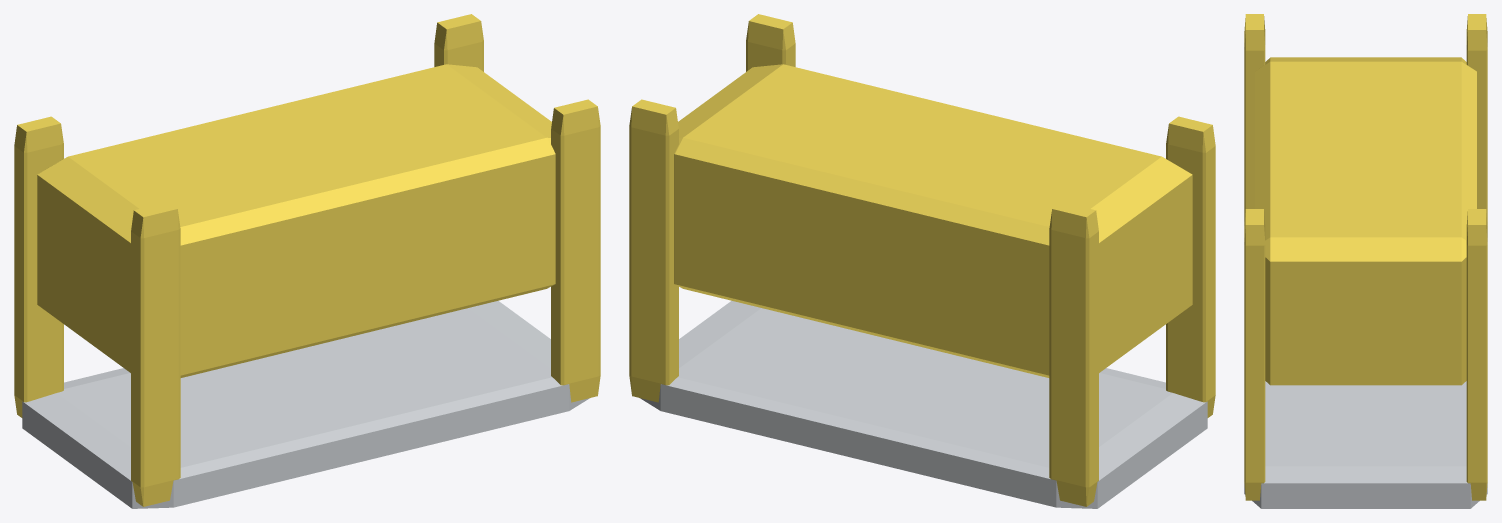
The model's file is b07_water_storage_tank_skid.glb.
The picture shows the model from 3 angles, left to right: view 1: azimuth 30°, elevation 25°; view 2: azimuth 150°, elevation 25°; view 3: azimuth 270°, elevation 25°; orthographic projection. The views are drawn at different scales.
Parts seen in each view (by area): view 1: b07_water_storage_tank_skid; view 2: b07_water_storage_tank_skid; view 3: b07_water_storage_tank_skid.
Boxes of the visible parts, x1,y1,x2,y2 form: b07_water_storage_tank_skid: (14,14,600,508); b07_water_storage_tank_skid: (629,14,1215,508); b07_water_storage_tank_skid: (1244,14,1487,508).
Bounding box in the file's own units: 3.36 × 2.09 × 1.62.
